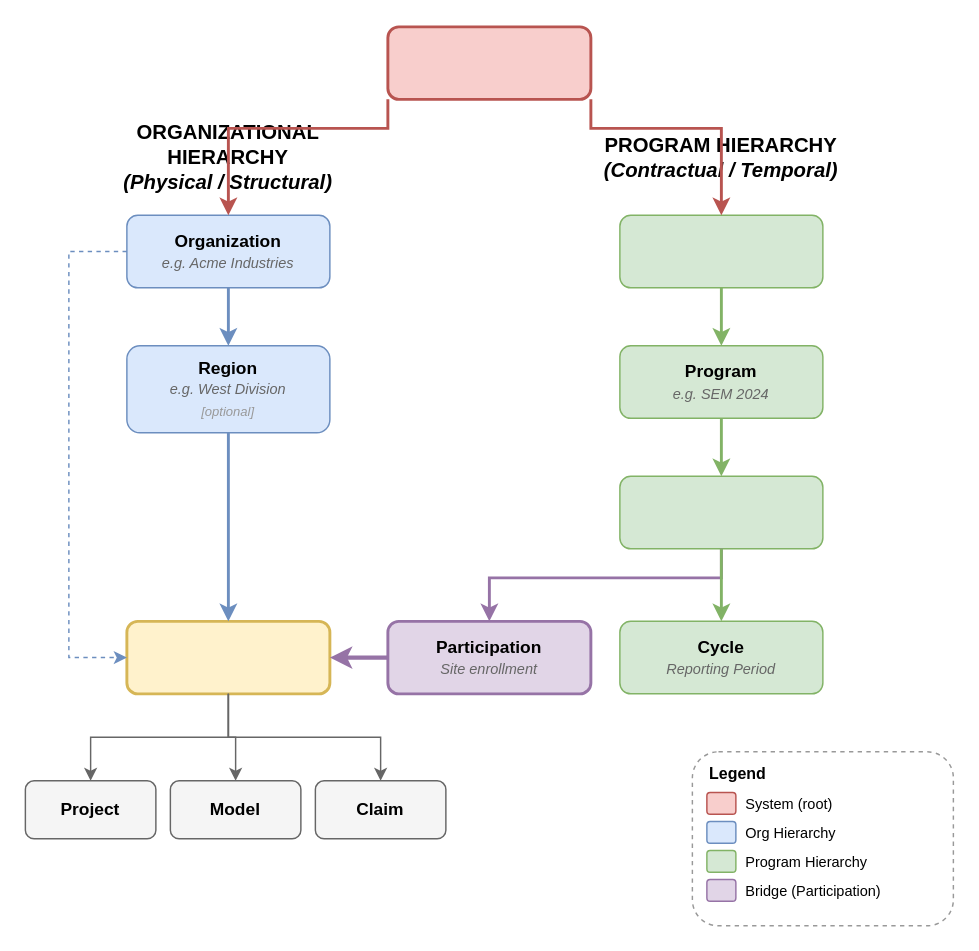
Image size: 979x951. Some labels were removed from this diagram. The shapes that lost their labels are listed below. From the top down, each one's centre as x and y in pixels, then its label:
At pixel 489 62: "System (root entity)".
At pixel 720 251: "Client e.g. DOE, BPA, Utility".
At pixel 720 512: "Cohort e.g. Spring 2024".
At pixel 228 657: "Site e.g. Portland Mfg".
